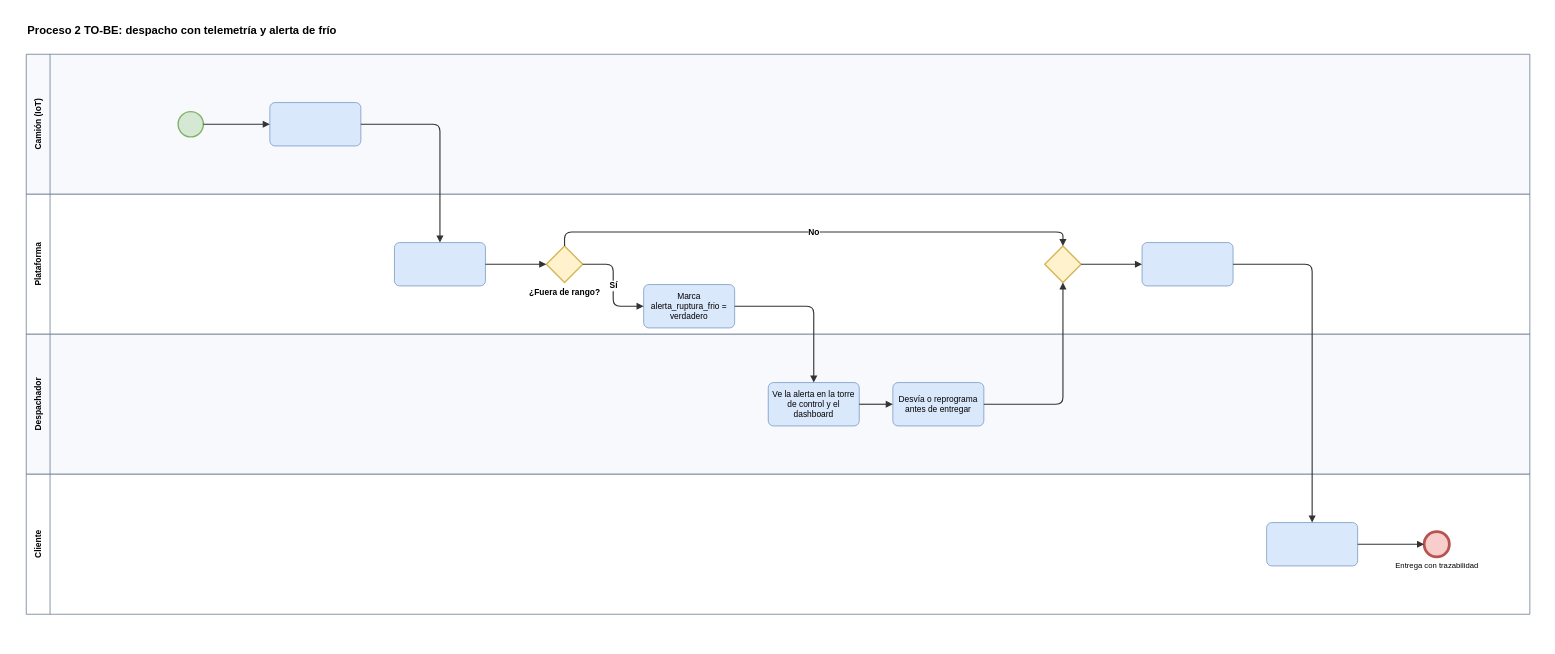
This 1555x654 diagram has some shape labels left out. The shapes that lost their labels are listed below. From the top down, each one's centre as x and y in pixels, then its label:
At [190,124]: "Camión sale a ruta".
At [315,124]: "Envía telemetría cada pocos segundos".
At [439,264]: "Guarda la lectura en la base de datos".
At [1187,264]: "Actualiza el estado del pedido".
At [1312,544]: "Ve el estado en el portal y recibe la carga".
